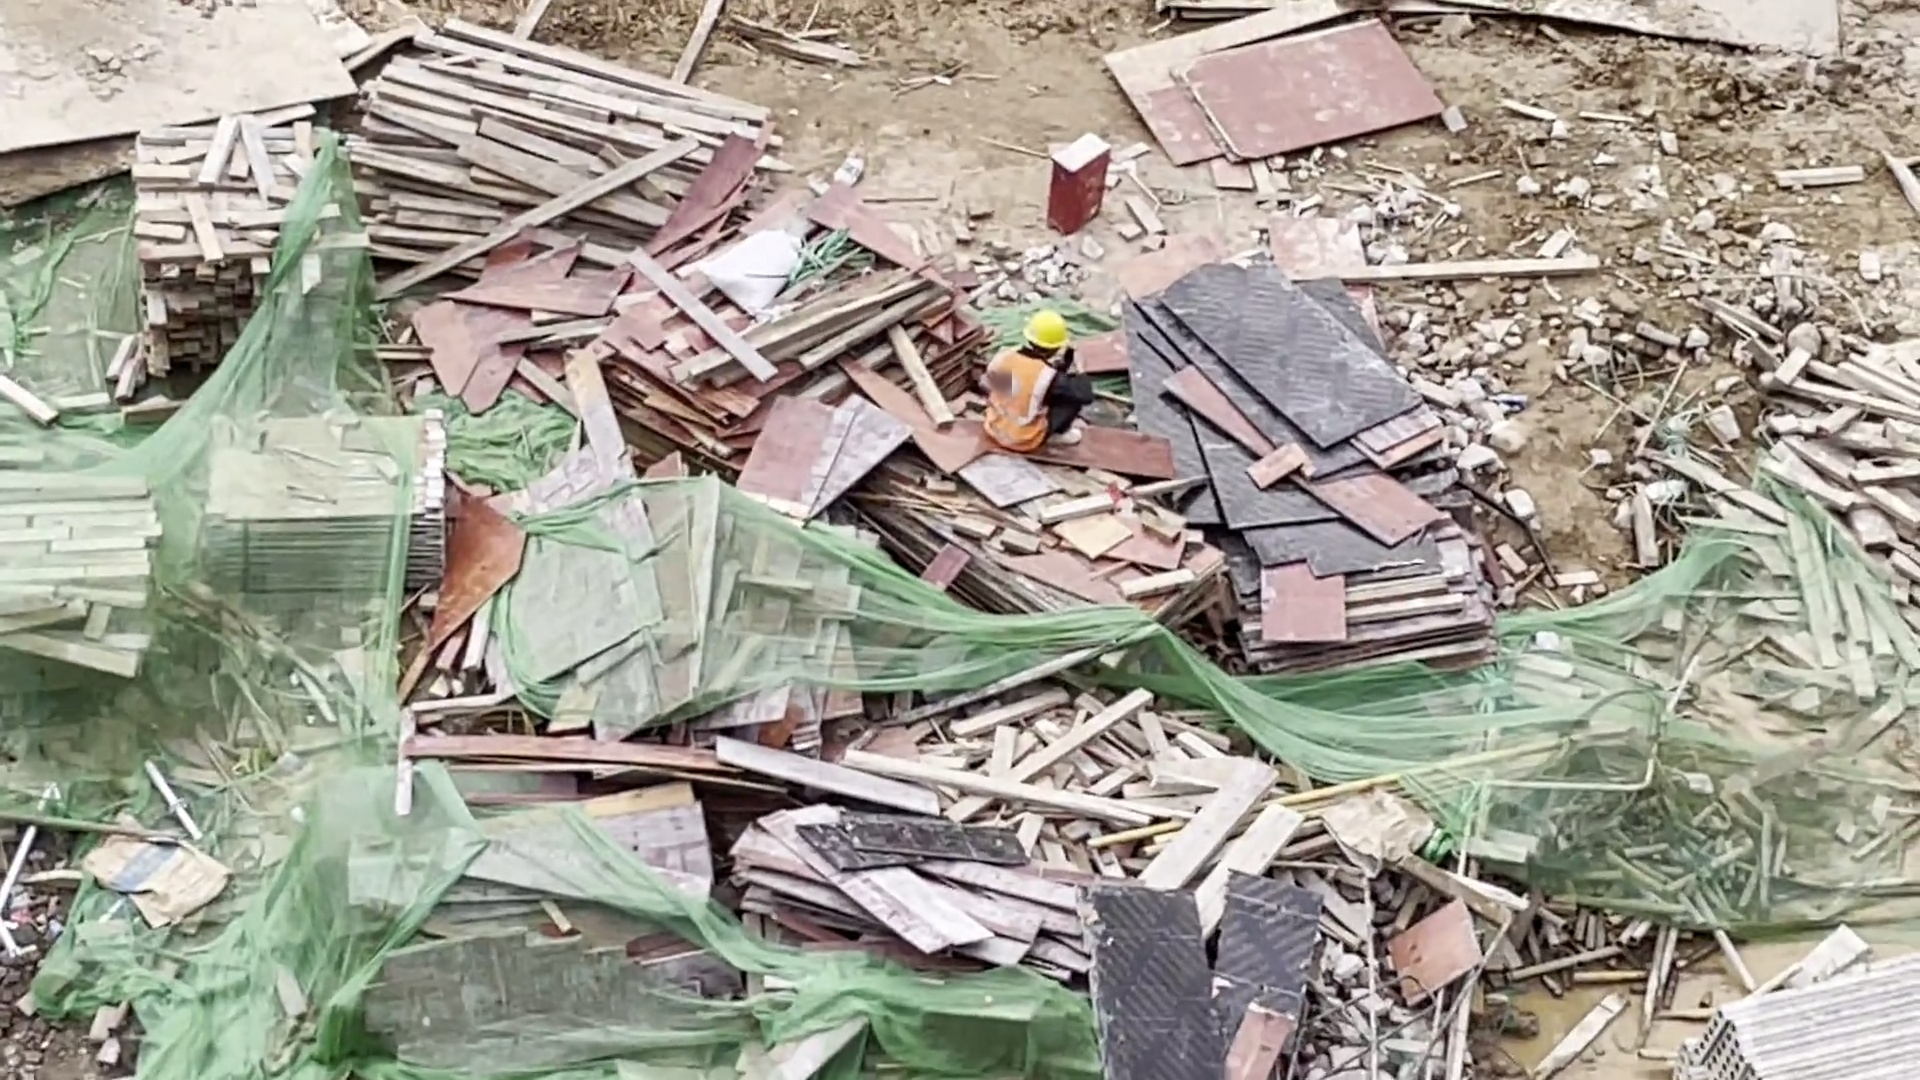board: (1140, 284, 1426, 665), (217, 412, 446, 584)
helmet: (1019, 307, 1073, 347)
person: (983, 309, 1093, 449)
vest: (983, 351, 1039, 448)
wood: (142, 124, 344, 349)
